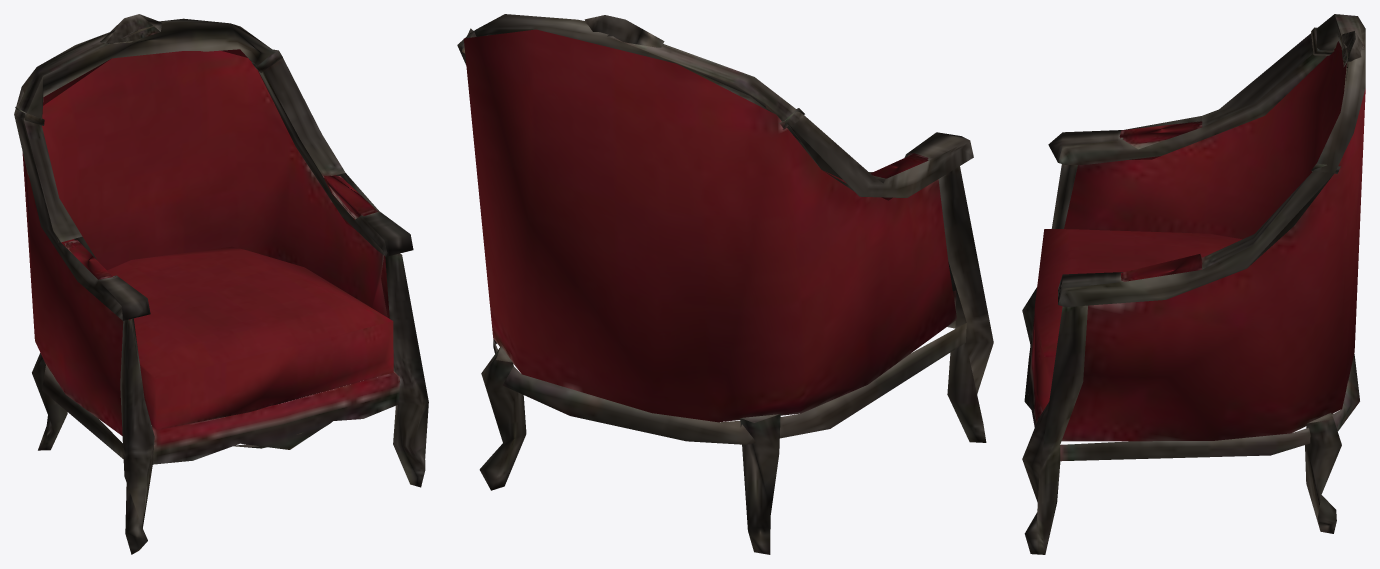
The model's file is cinema_seat_lod.glb.
3 renders of one model, left to right at view 1: azimuth 30°, elevation 25°; view 2: azimuth 150°, elevation 25°; view 3: azimuth 270°, elevation 25°, orthographic. The views are drawn at different scales.
Visible parts, largest first — view 1: ArmChair_01; view 2: ArmChair_01; view 3: ArmChair_01.
Part boxes in pixels (x1,y1,x2,y2): ArmChair_01: (14,14,428,554); ArmChair_01: (457,14,993,554); ArmChair_01: (1022,14,1365,554).
Bounding box in the file's own units: 0.8482 × 1.06 × 0.7482.
Materials: 1 (1 with a texture image).
